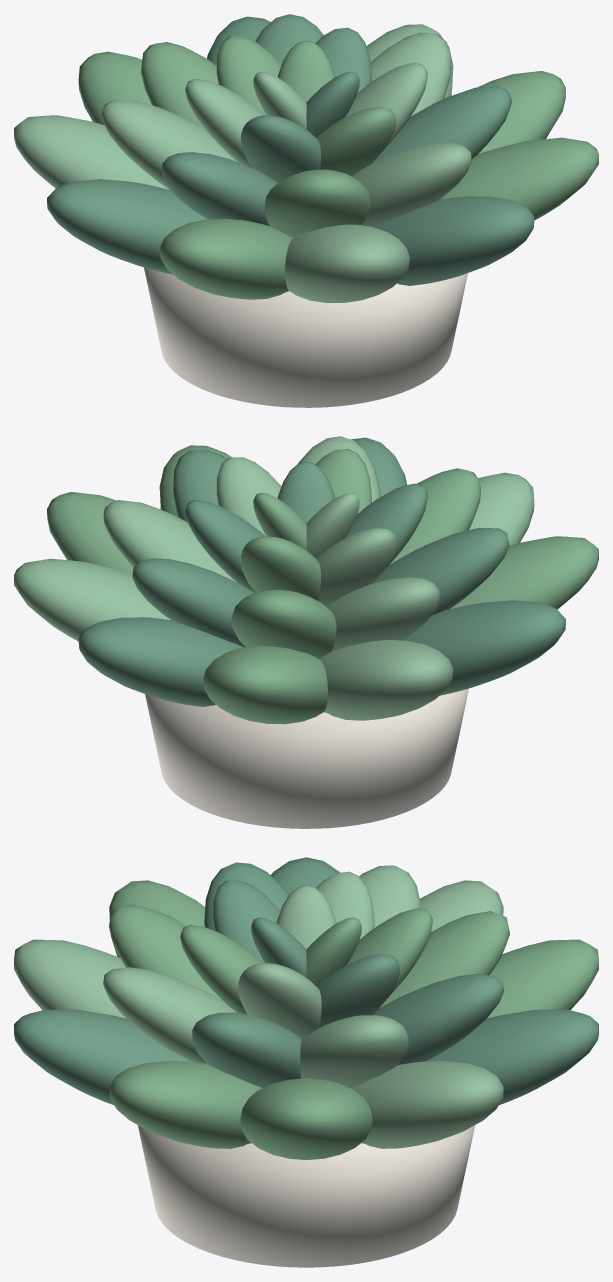
File: plant_succulent.glb
3 renders of one model, top to bottom at view 1: azimuth 30°, elevation 25°; view 2: azimuth 150°, elevation 25°; view 3: azimuth 270°, elevation 25°, orthographic. The views are drawn at different scales.
Parts seen in each view (by area): view 1: plant_succulent; view 2: plant_succulent; view 3: plant_succulent.
Part boxes in pixels (left/top/right/bottom): plant_succulent: left=14, top=14, right=598, bottom=407; plant_succulent: left=14, top=436, right=598, bottom=828; plant_succulent: left=14, top=857, right=598, bottom=1267.
Bounding box in the file's own units: 0.1616 × 0.086 × 0.1543.
